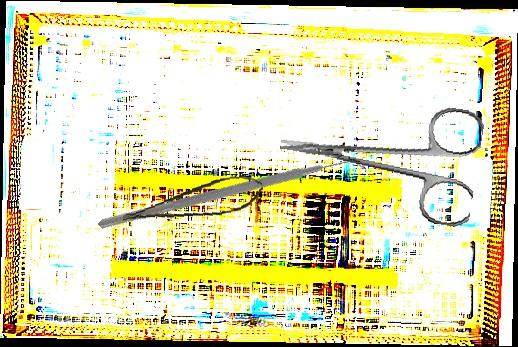Chopper: (97, 61, 371, 337)
Iris Scissors: (272, 82, 486, 229)
Micro Scissor: (119, 172, 266, 226)
